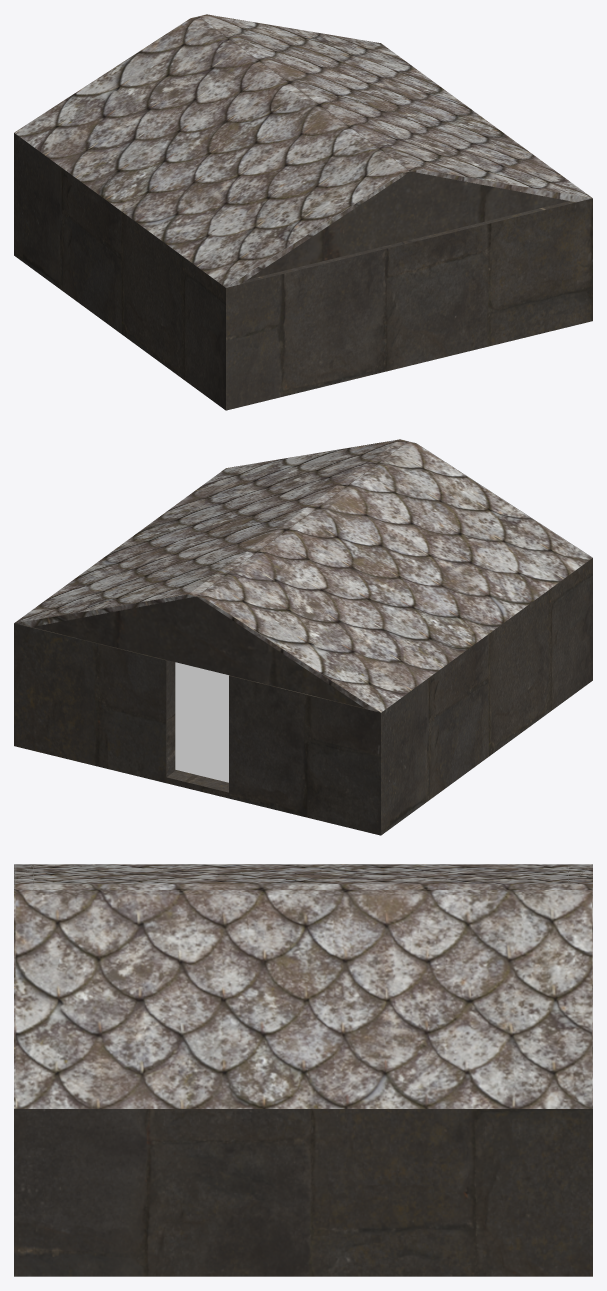
File: maisonblend.dae
The picture shows the model from 3 angles, top to bottom: view 1: azimuth 30°, elevation 25°; view 2: azimuth 150°, elevation 25°; view 3: azimuth 270°, elevation 25°; orthographic projection. The views are drawn at different scales.
Parts seen in each view (by area): view 1: toit.droite.001, maison, Triangles; view 2: toit.droite.001, maison, Triangles, Sol; view 3: toit.droite.001, maison.
Boxes of the visible parts, bbox=[...] form: toit.droite.001: bbox=[14, 14, 592, 287]; maison: bbox=[14, 133, 592, 410]; Triangles: bbox=[248, 171, 568, 279]; toit.droite.001: bbox=[14, 439, 592, 712]; maison: bbox=[14, 558, 592, 835]; Triangles: bbox=[32, 596, 364, 708]; Sol: bbox=[175, 662, 228, 782]; toit.droite.001: bbox=[14, 864, 592, 1108]; maison: bbox=[14, 865, 592, 1276].
Bounding box in the file's own units: 11.87 × 11.88 × 6.
